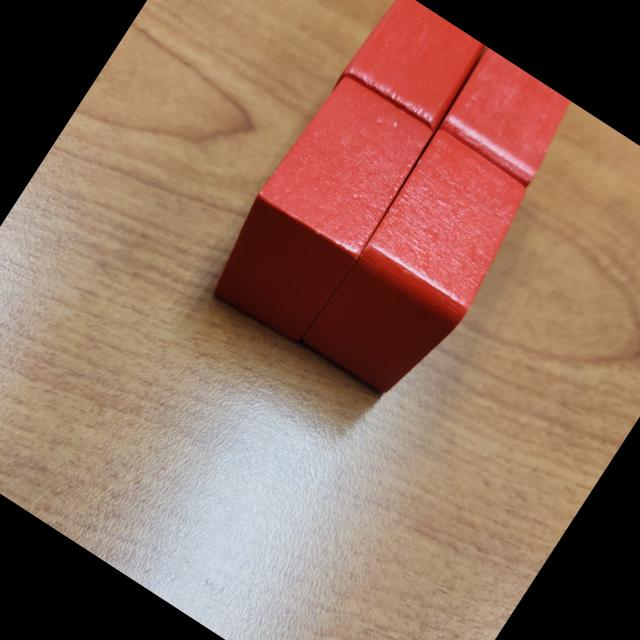red: (297, 125, 545, 412), (195, 69, 436, 354), (323, 0, 488, 153), (433, 46, 579, 188)
